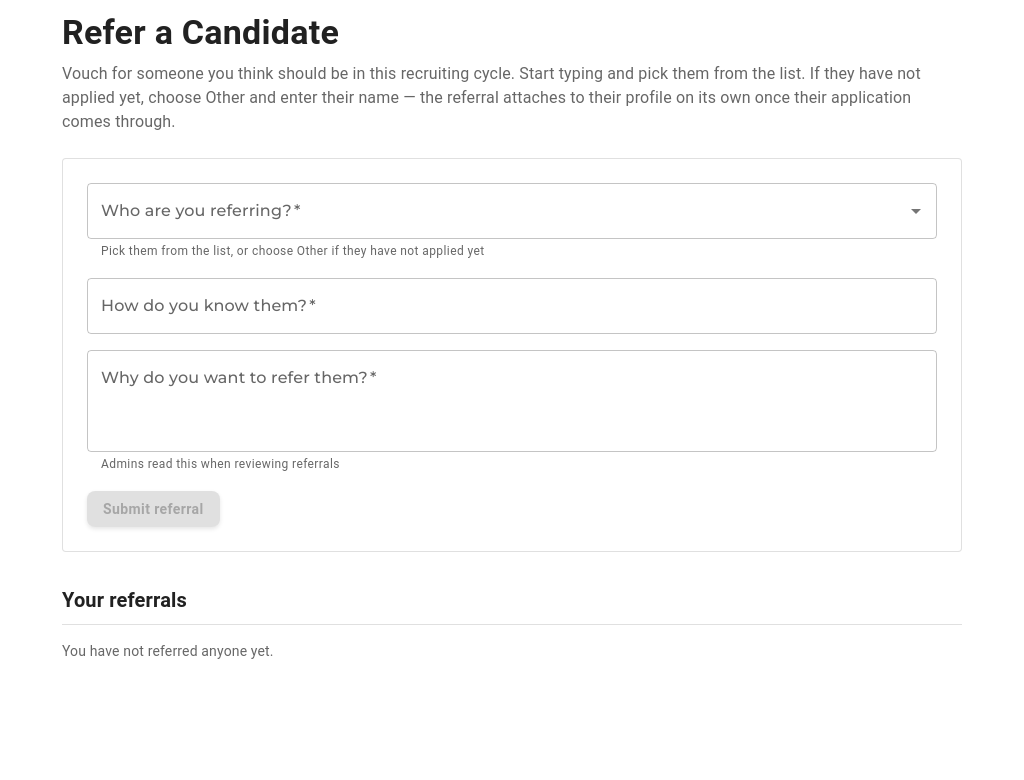
Test case: MemberReferrals › asks for a name only after Other is chosen
The image size is (1024, 780).
Expected: the text "You have not referred anyone yet." is shown, [62,643,274,659]
Expected: the field labelled "first name" is not shown
Type "kar" into the dropdown labelled "Who are you referring? *" at x=497, y=211, box [96,192,898,230]
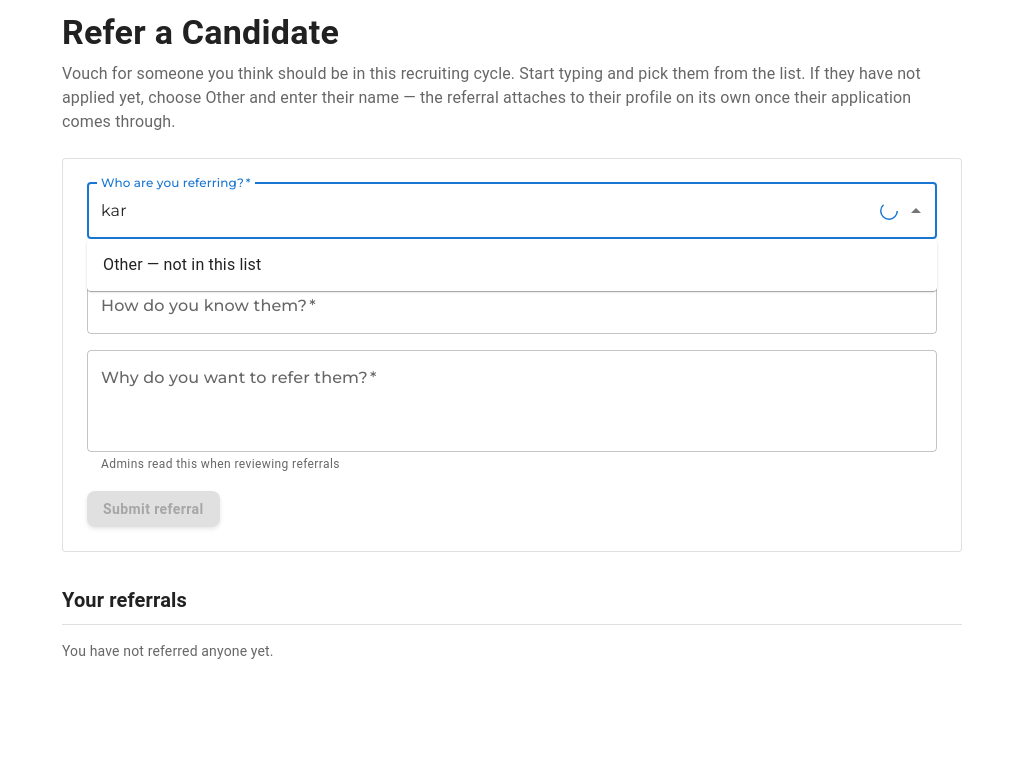
Click the option "Other — not in this list" at x=182, y=264, box [103,255,261,274]
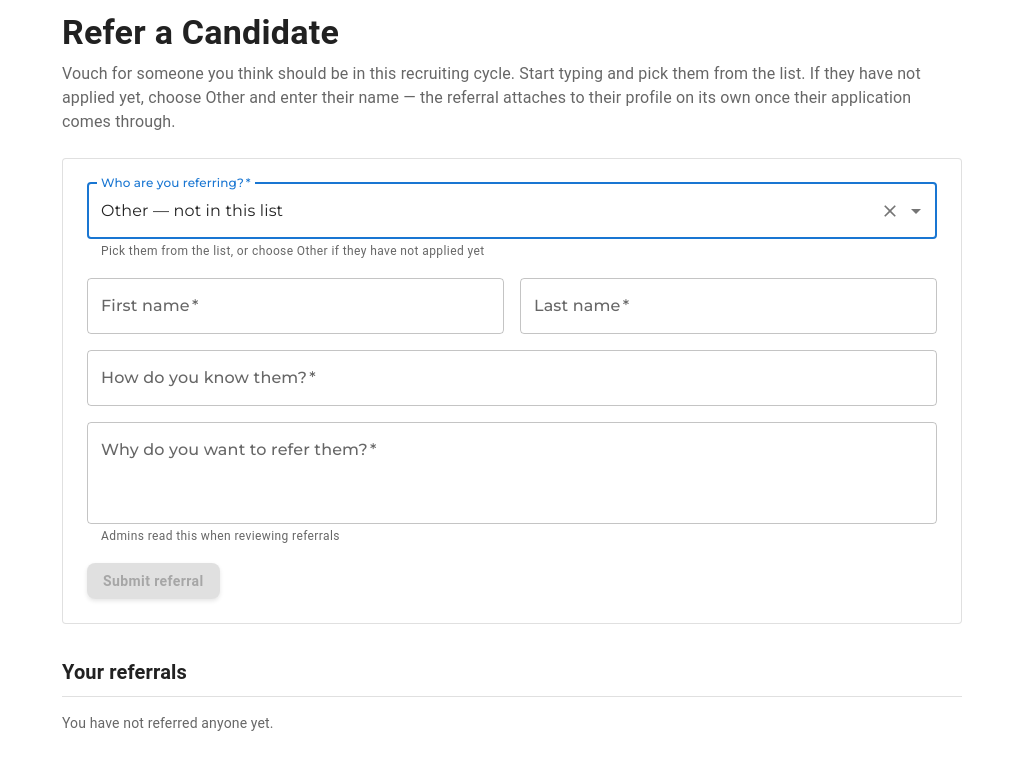
Result: the field labelled "First name *" is shown at [87,278,504,334]
Result: the field labelled "Last name *" is shown at [520,278,937,334]
